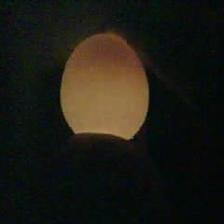infertile: (58, 30, 151, 148)
